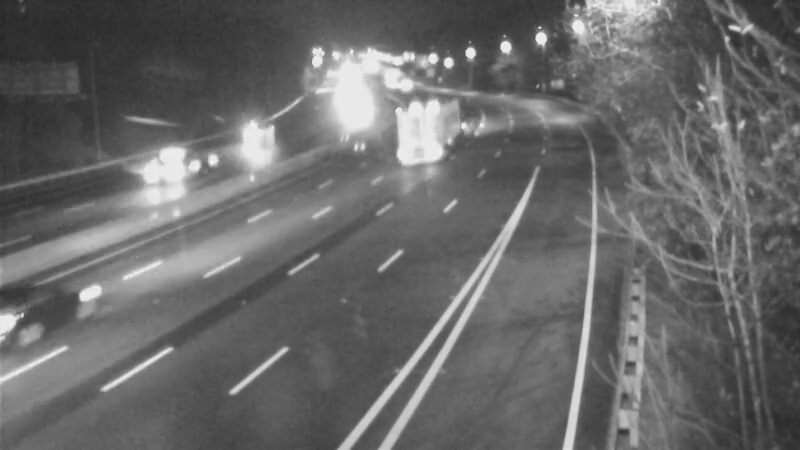vehicle: (1, 258, 95, 368), (122, 128, 202, 208), (401, 97, 451, 147), (228, 112, 278, 162)
